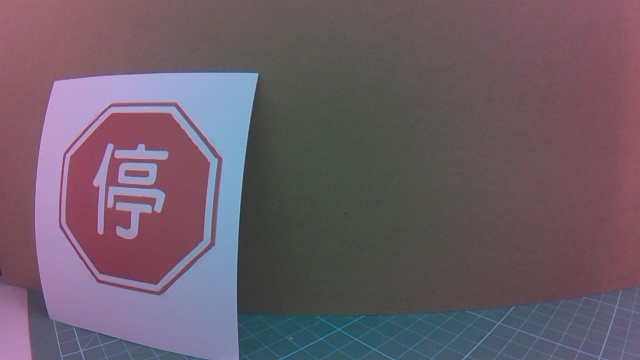stop: (56, 89, 242, 295)
